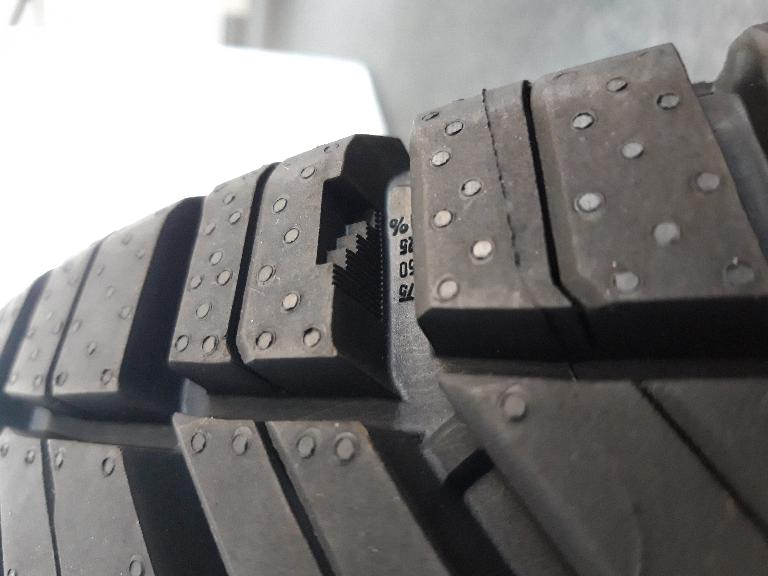temoin:100: (313, 175, 388, 296)
